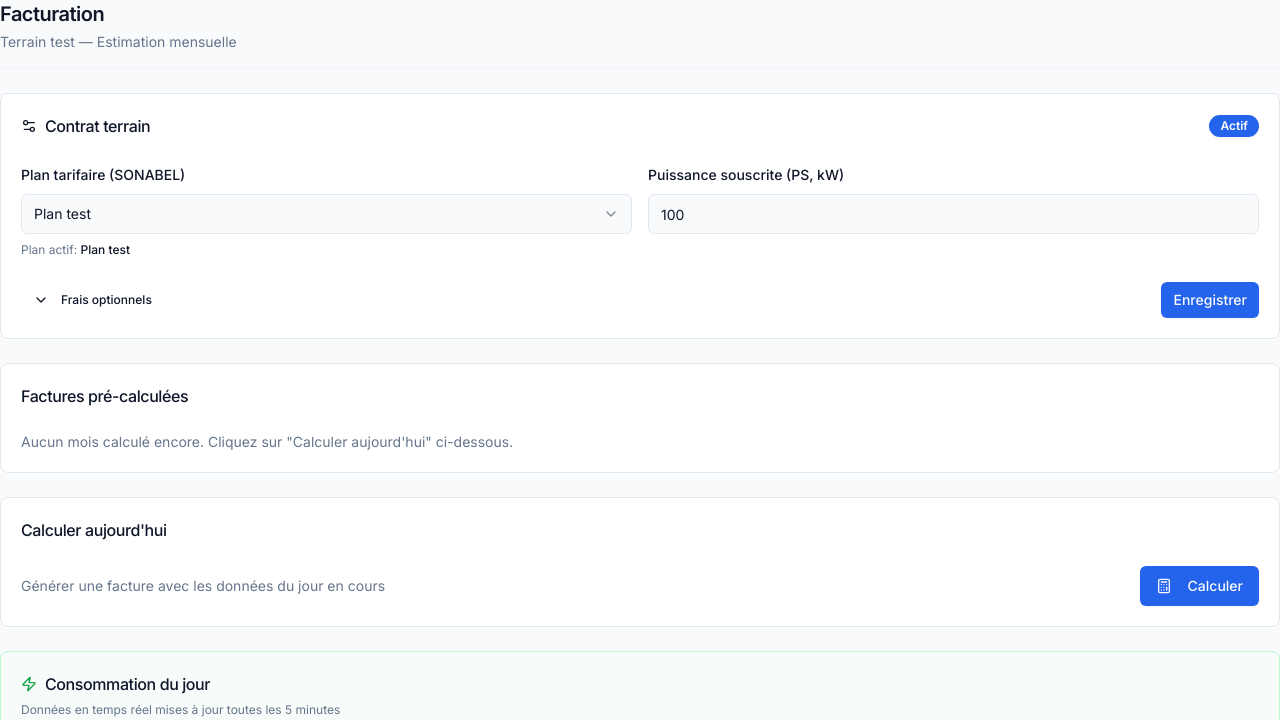
Test case: Invoice Component - Polling & Result Handling › should stop polling when results appear
The width and height of the screenshot is (1280, 720).
Click the button "Calculer".
click(1199, 586)  # box [1140,566,1259,606]
(page scrolled)
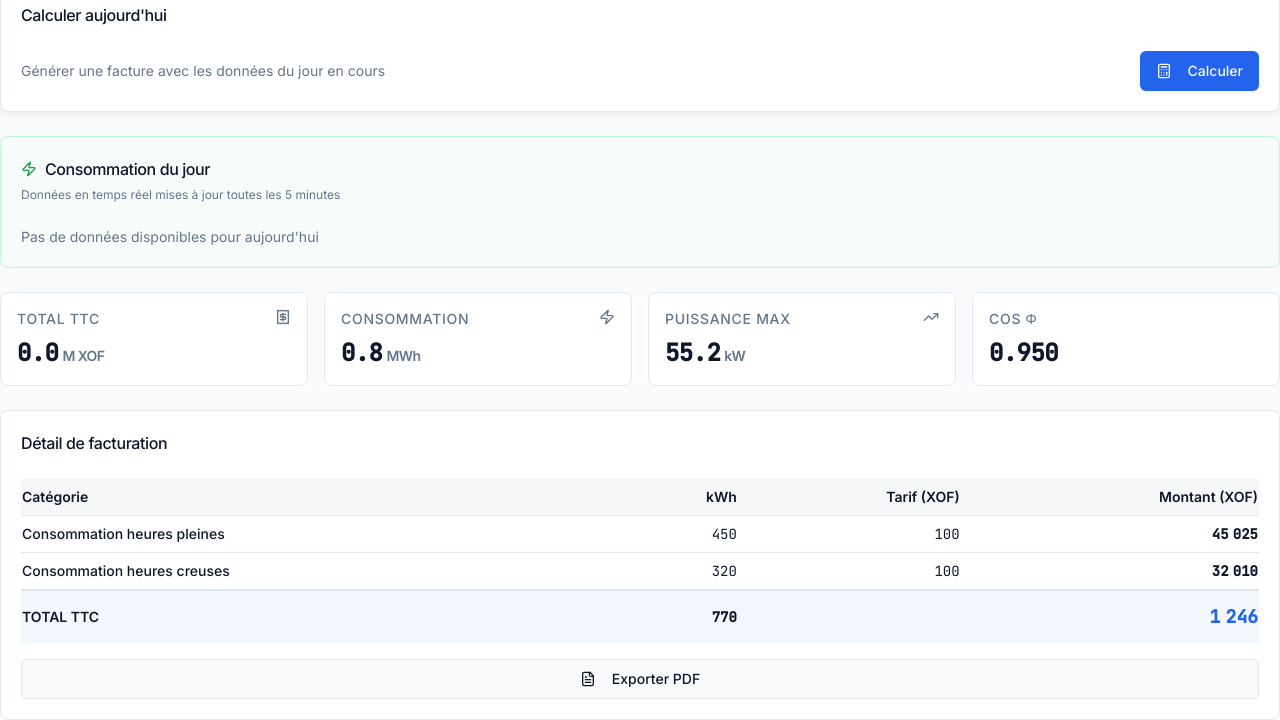
Now the heading "Détail de facturation" is shown, box [21,433,167,453]
